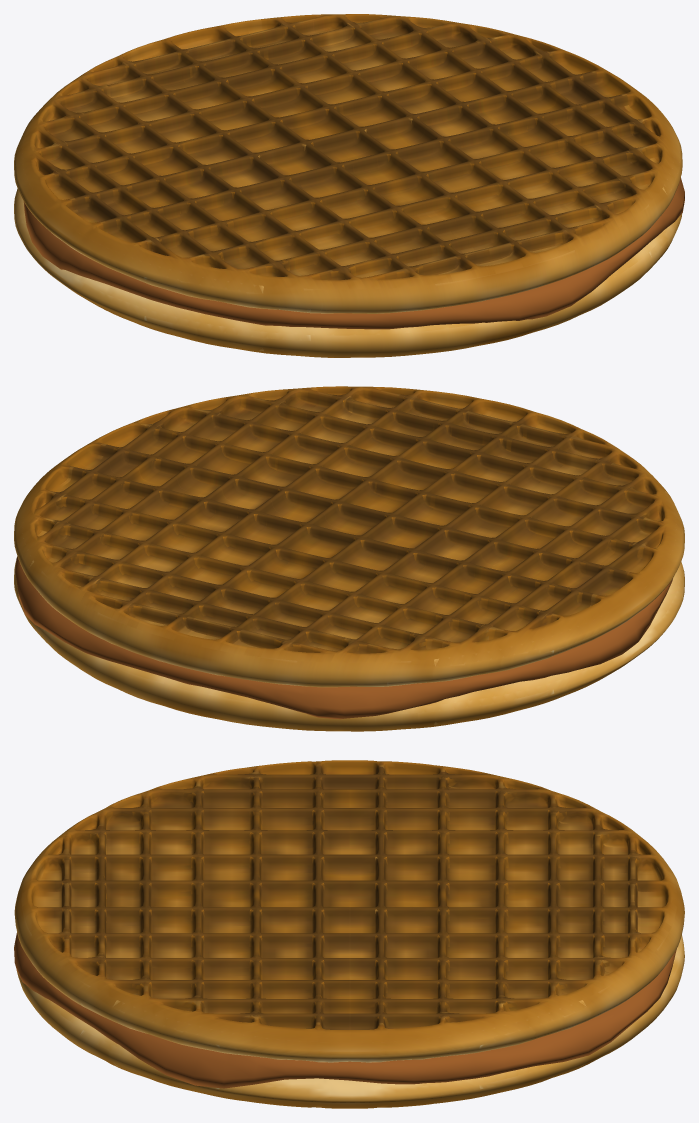
Rendered from StroopWaffle.fbx.
The picture shows the model from 3 angles, top to bottom: view 1: azimuth 30°, elevation 25°; view 2: azimuth 150°, elevation 25°; view 3: azimuth 270°, elevation 25°; orthographic projection.
Parts seen in each view (by area): view 1: StroopwafelA, StroopwafelB, caramel; view 2: StroopwafelA, StroopwafelB, caramel; view 3: StroopwafelA, caramel, StroopwafelB.
Boxes of the visible parts, box(x1,y1,x2,y2) form: StroopwafelA: box(14, 14, 682, 313); StroopwafelB: box(14, 188, 682, 357); caramel: box(23, 177, 684, 329); StroopwafelA: box(14, 386, 684, 687); StroopwafelB: box(14, 561, 684, 731); caramel: box(15, 556, 672, 719); StroopwafelA: box(14, 760, 684, 1062); caramel: box(14, 932, 676, 1088); StroopwafelB: box(16, 935, 684, 1108).
Size of the model in its own units: 462 by 59.65 by 455.
